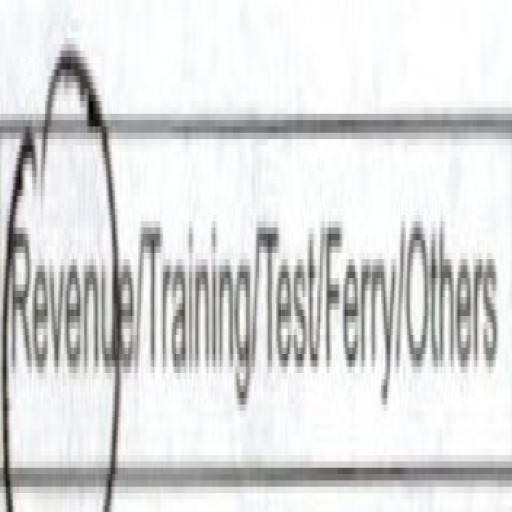check: (0, 19, 134, 512)
